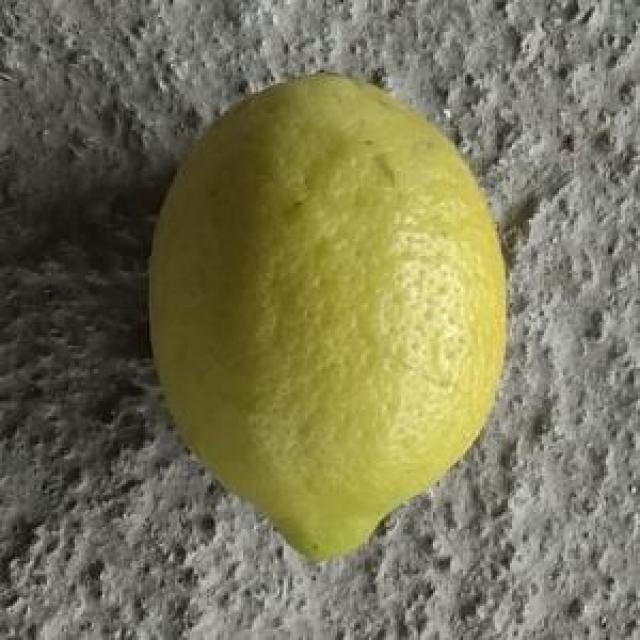lemon: (146, 69, 516, 565)
